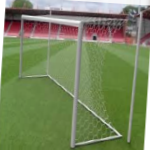goals: (17, 11, 125, 149)
